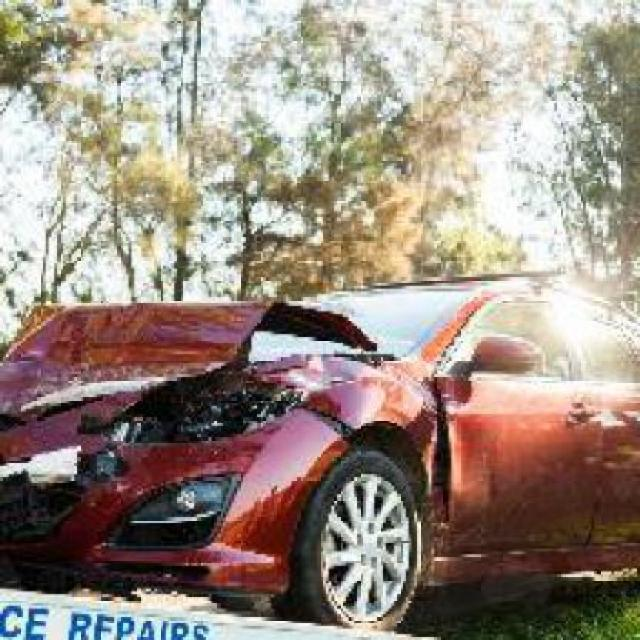damaged-hood: (2, 294, 356, 426)
